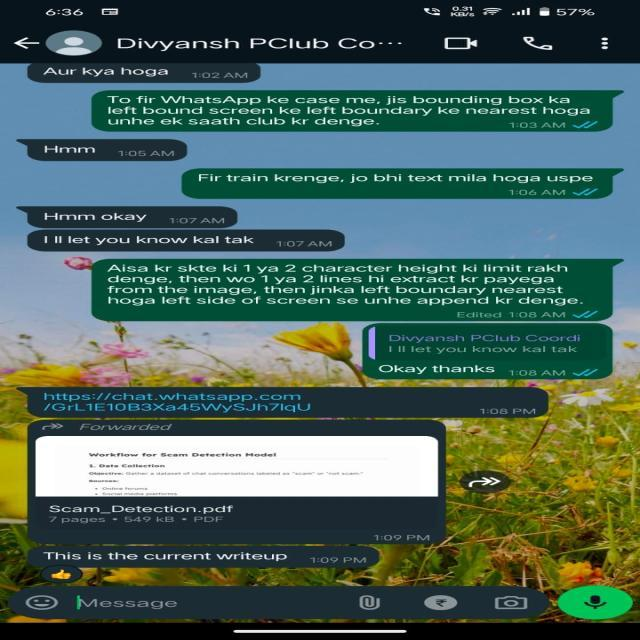scam: (28, 436, 446, 541), (29, 386, 548, 417), (32, 545, 378, 567), (29, 228, 345, 252), (28, 63, 264, 83), (28, 206, 238, 228), (22, 138, 188, 160)
